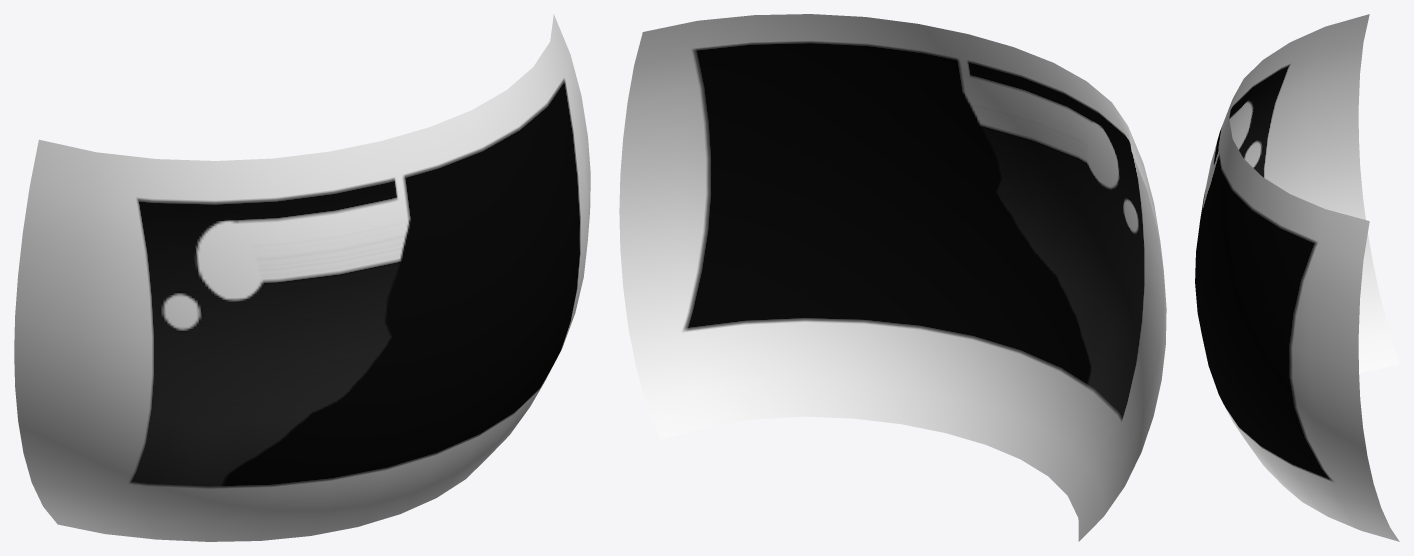
File: Wink Face.fbx
3 renders of one model, left to right at view 1: azimuth 30°, elevation 25°; view 2: azimuth 150°, elevation 25°; view 3: azimuth 270°, elevation 25°, orthographic. The views are drawn at different scales.
Parts seen in each view (by area): view 1: Wink Face; view 2: Wink Face; view 3: Wink Face.
Boxes of the visible parts, x1,y1,x2,y2 form: Wink Face: [14, 14, 590, 541]; Wink Face: [619, 14, 1166, 541]; Wink Face: [1195, 14, 1399, 541].
Size of the model in its own units: 55.82 by 37.73 by 20.87.
